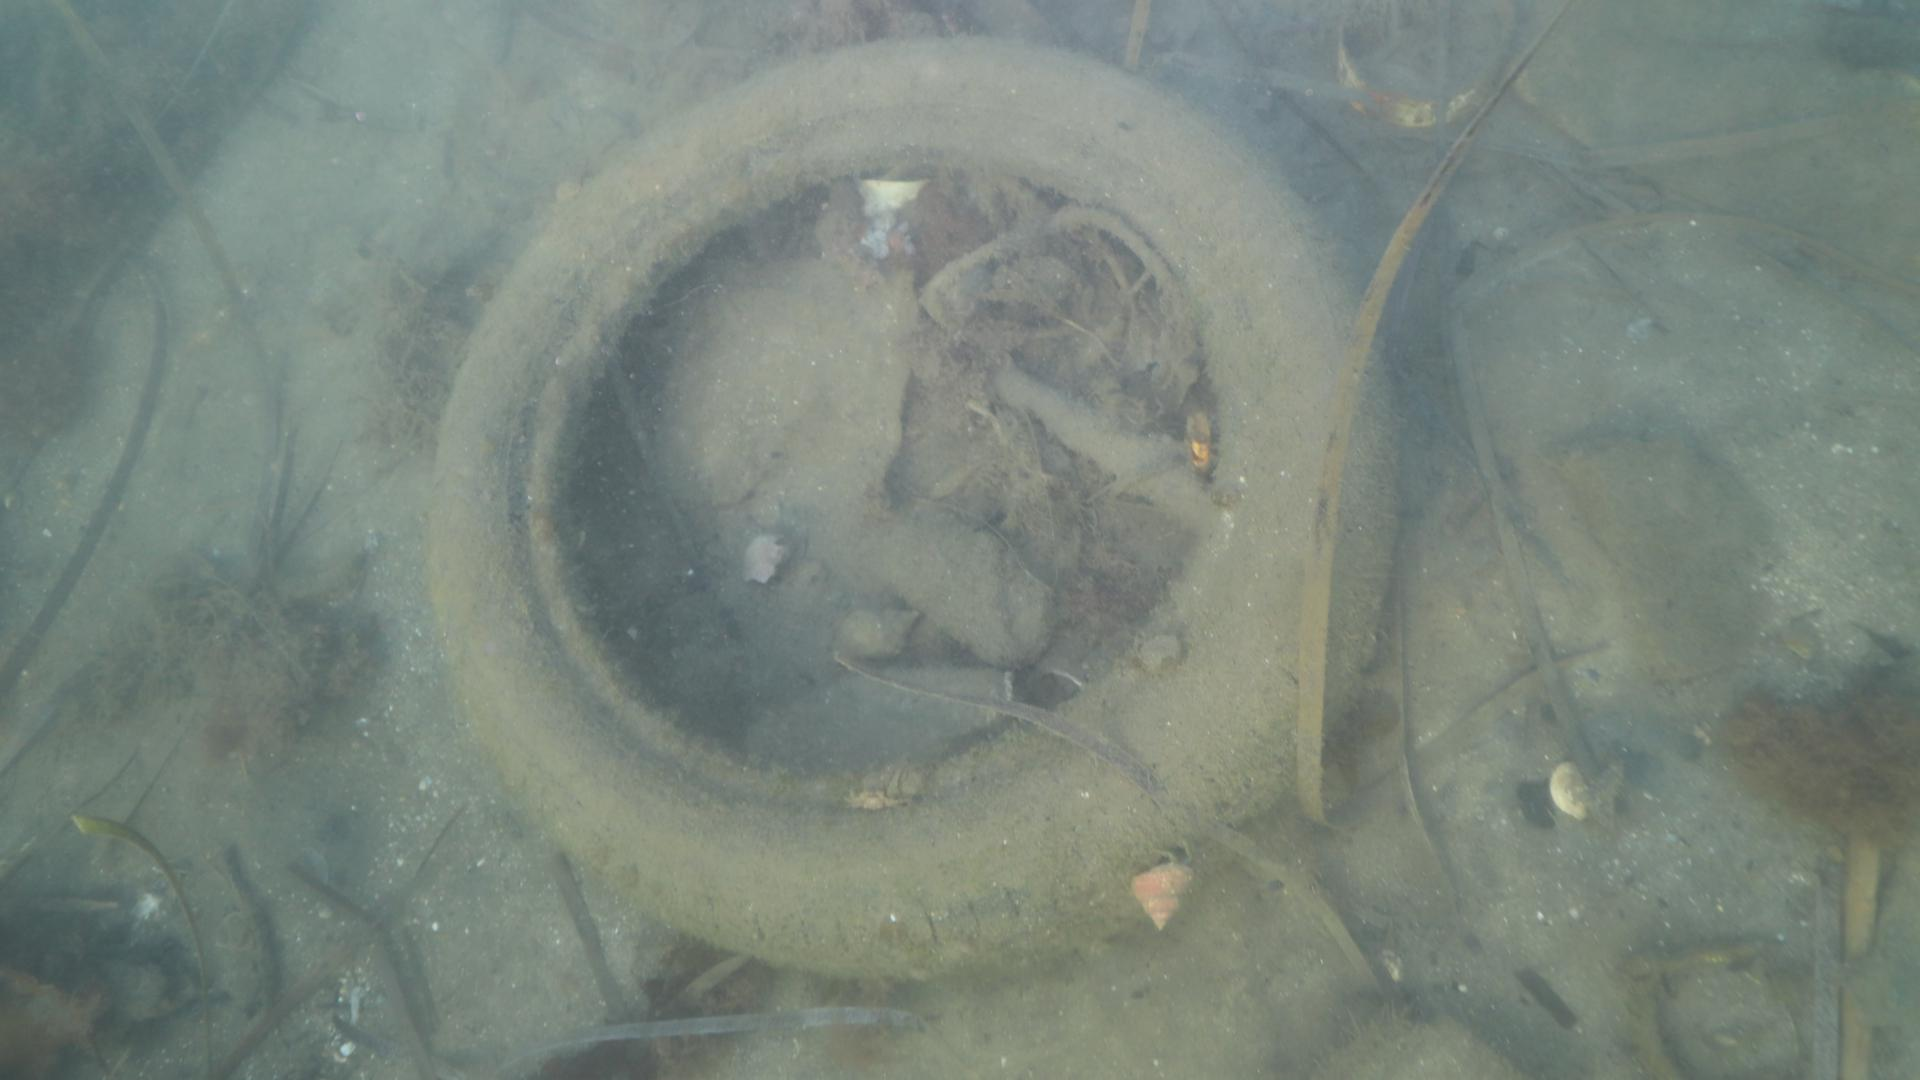tire: (430, 36, 1396, 992)
